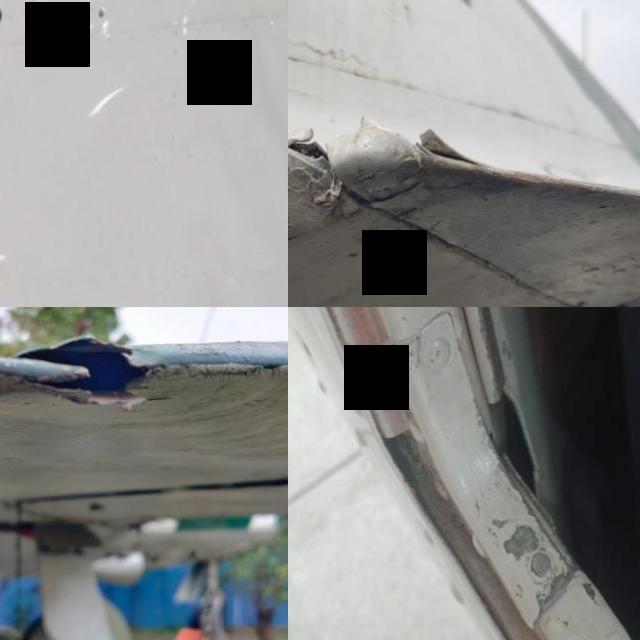Crack: (470, 478, 640, 640), (1, 332, 181, 419), (356, 89, 506, 188), (288, 114, 346, 178)
